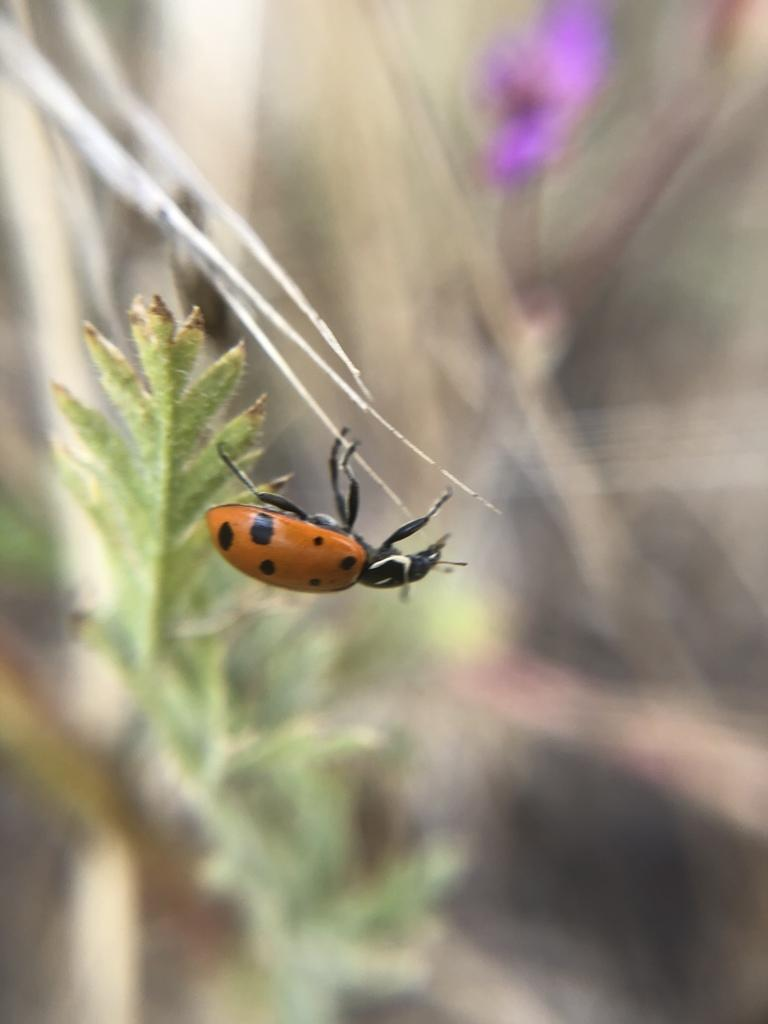ladybug: (201, 421, 474, 599)
